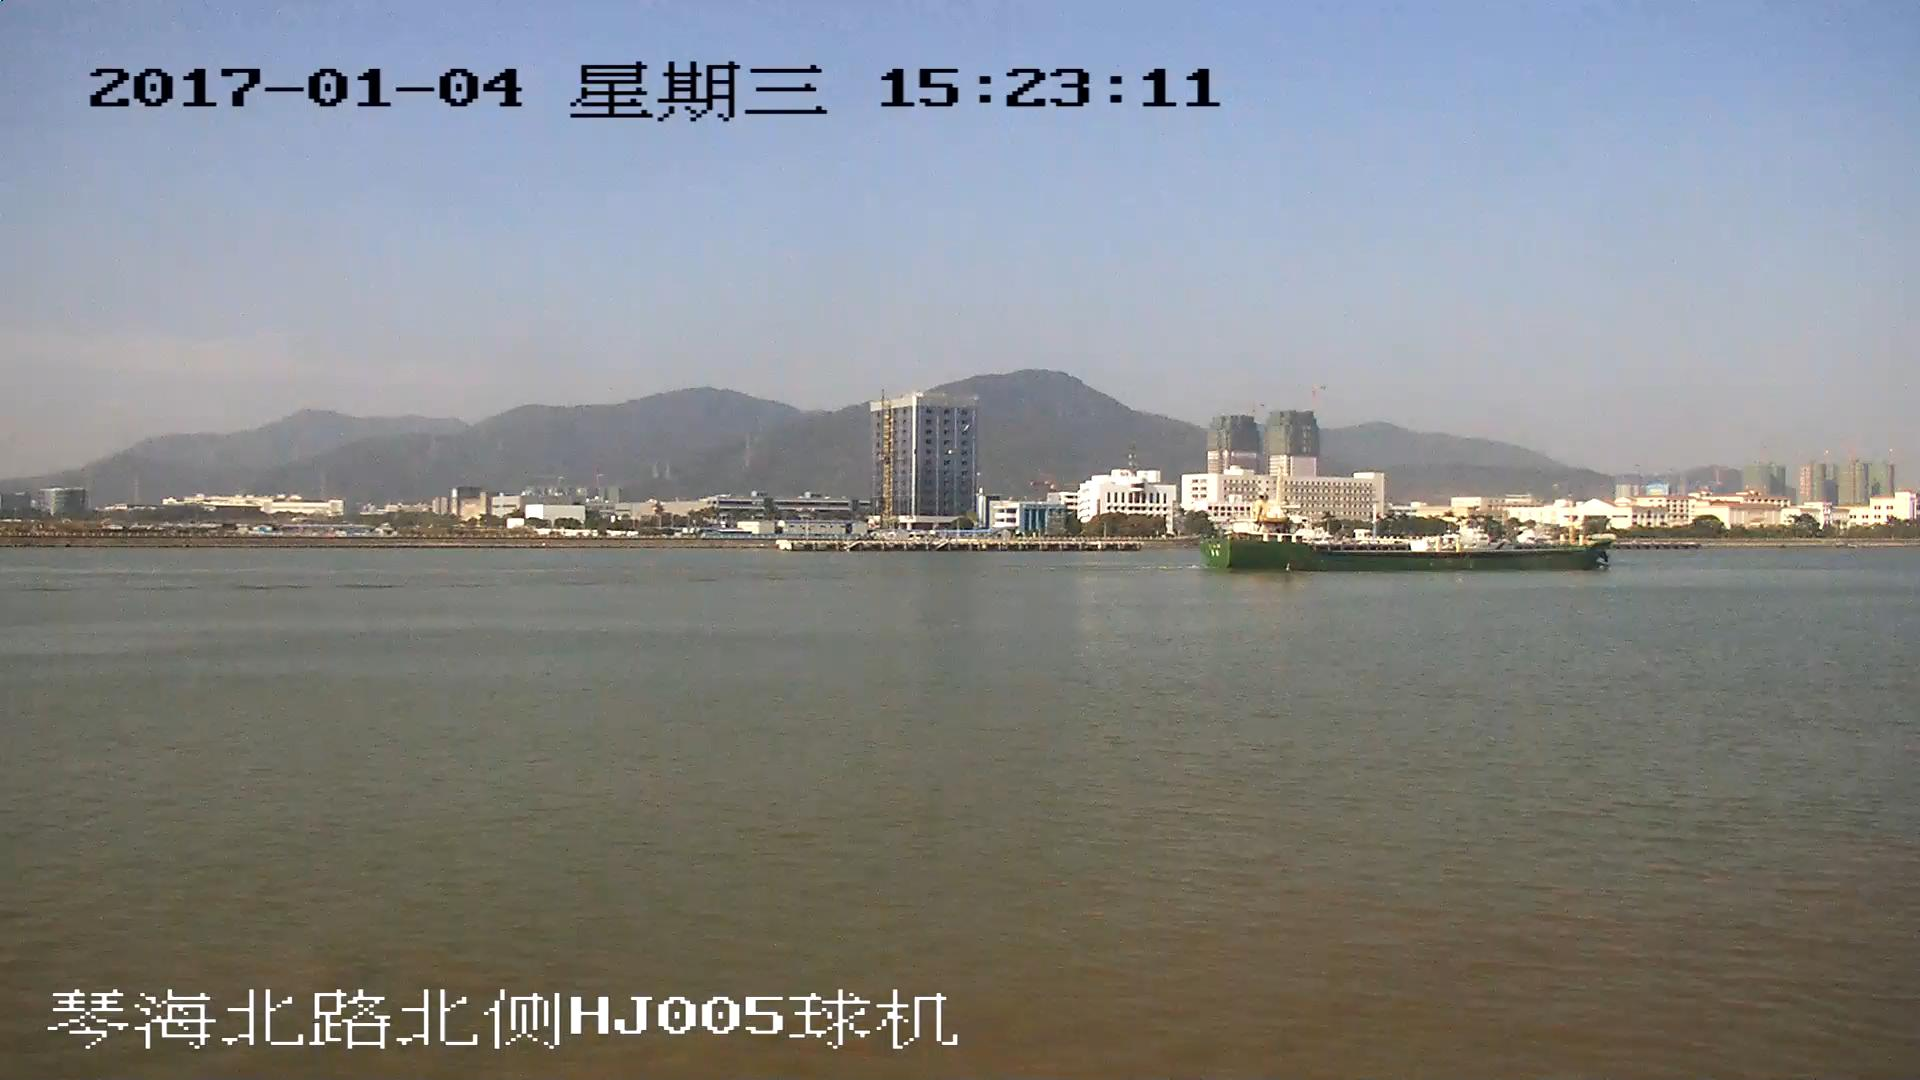general cargo ship: (1201, 488, 1613, 576)
